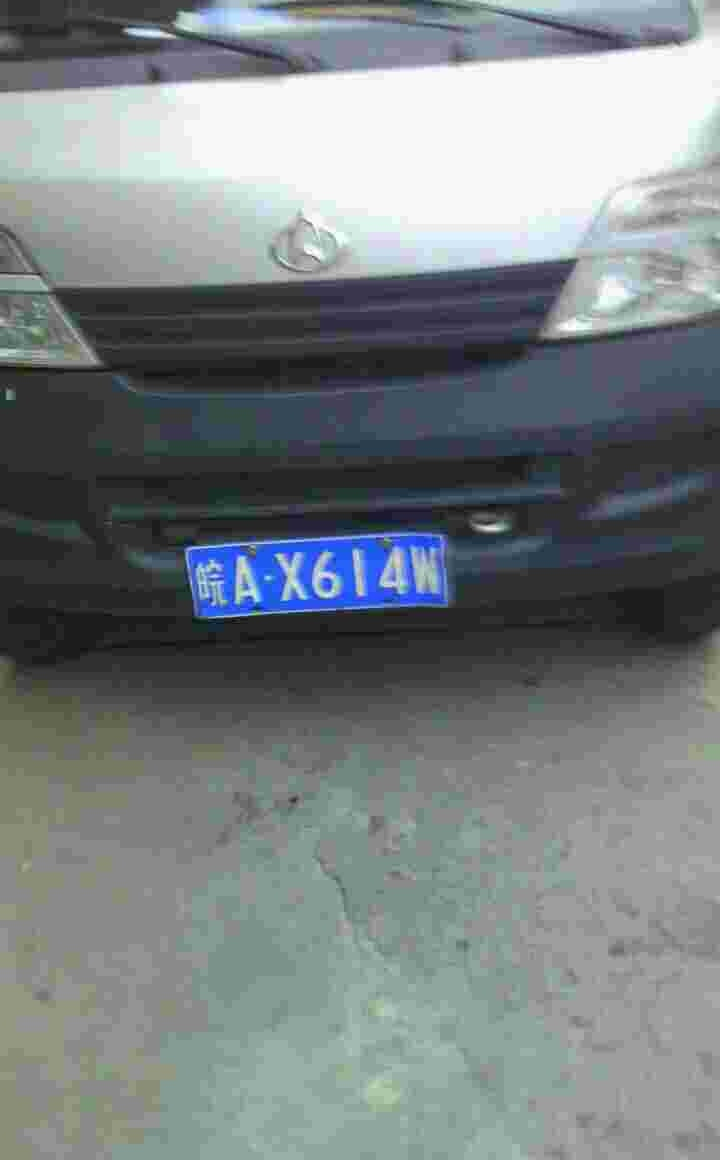car: (178, 547, 457, 619)
